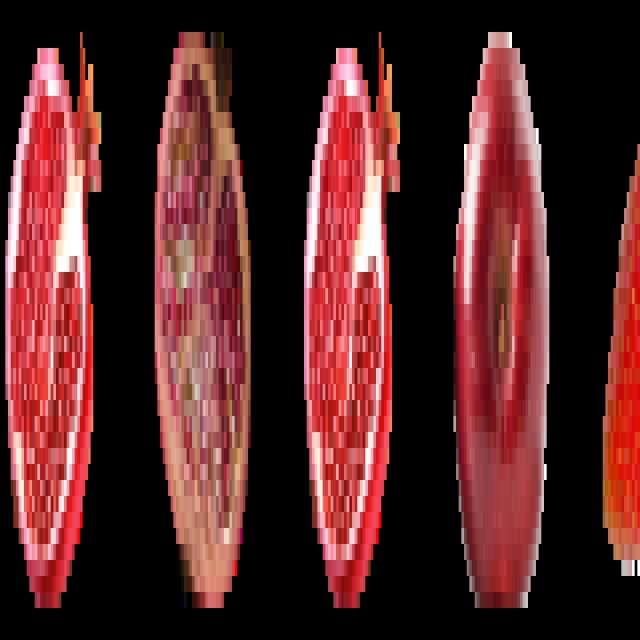apple: (449, 6, 556, 631)
pomegranate: (148, 9, 258, 630), (298, 13, 407, 624), (3, 16, 108, 626)
